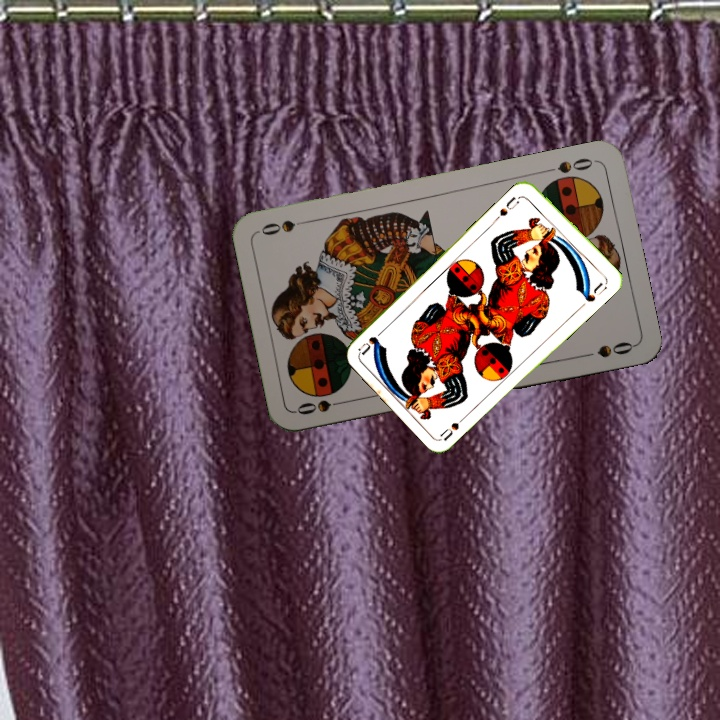SO: (292, 395, 352, 418), (540, 154, 598, 176)
SU: (437, 409, 471, 443), (492, 192, 522, 222)
